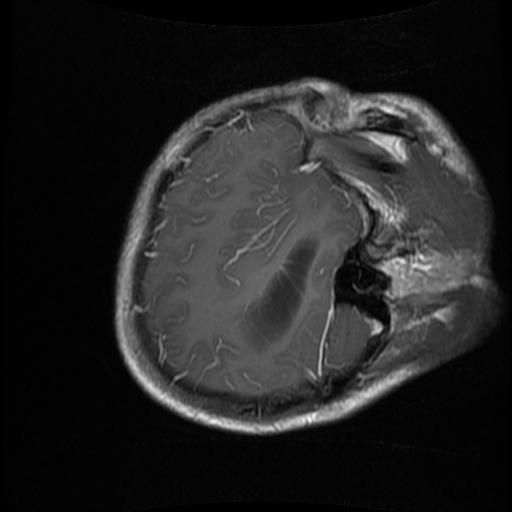glioma: (239, 237, 317, 352)
